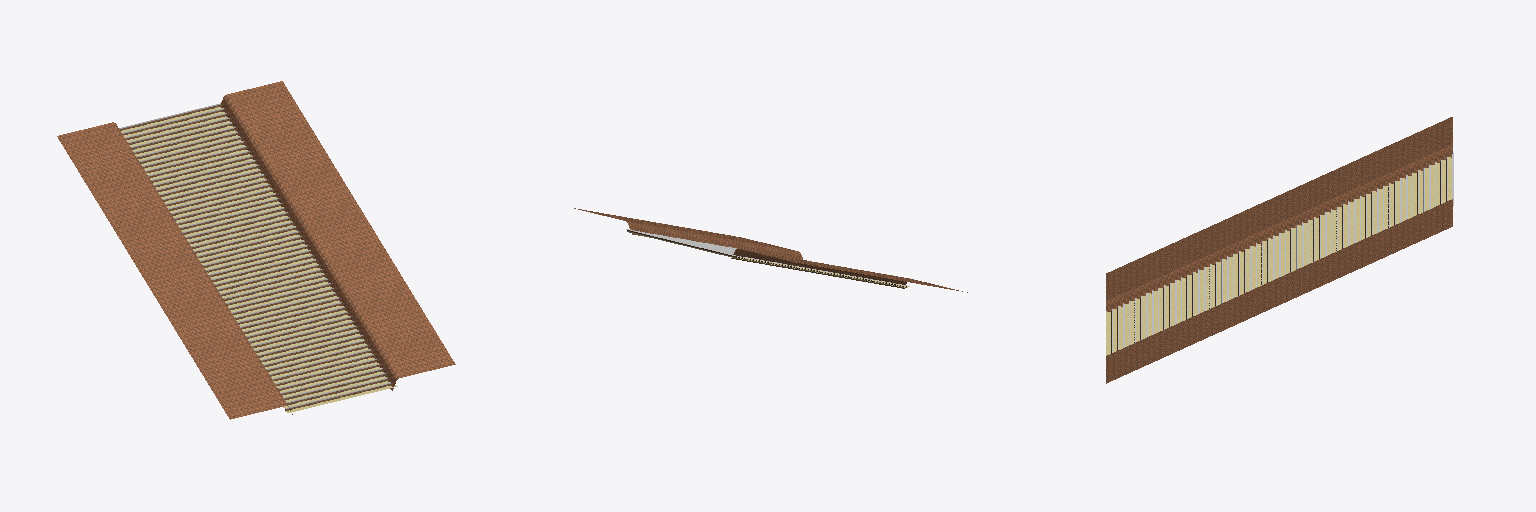
3 views of the same model, side by side, from view 1: azimuth 30°, elevation 25°; view 2: azimuth 150°, elevation 25°; view 3: azimuth 270°, elevation 25° (orthographic).
Parts seen in each view (by area): view 1: Plane; view 2: Plane; view 3: Plane.
Boxes of the visible parts, box(x1,y1,x2,y2) form: Plane: box(57, 81, 455, 419); Plane: box(574, 208, 967, 292); Plane: box(1106, 117, 1453, 383).
Size of the model in its own units: 45.2 by 32.25 by 60.19.
4 materials, 3 textured.